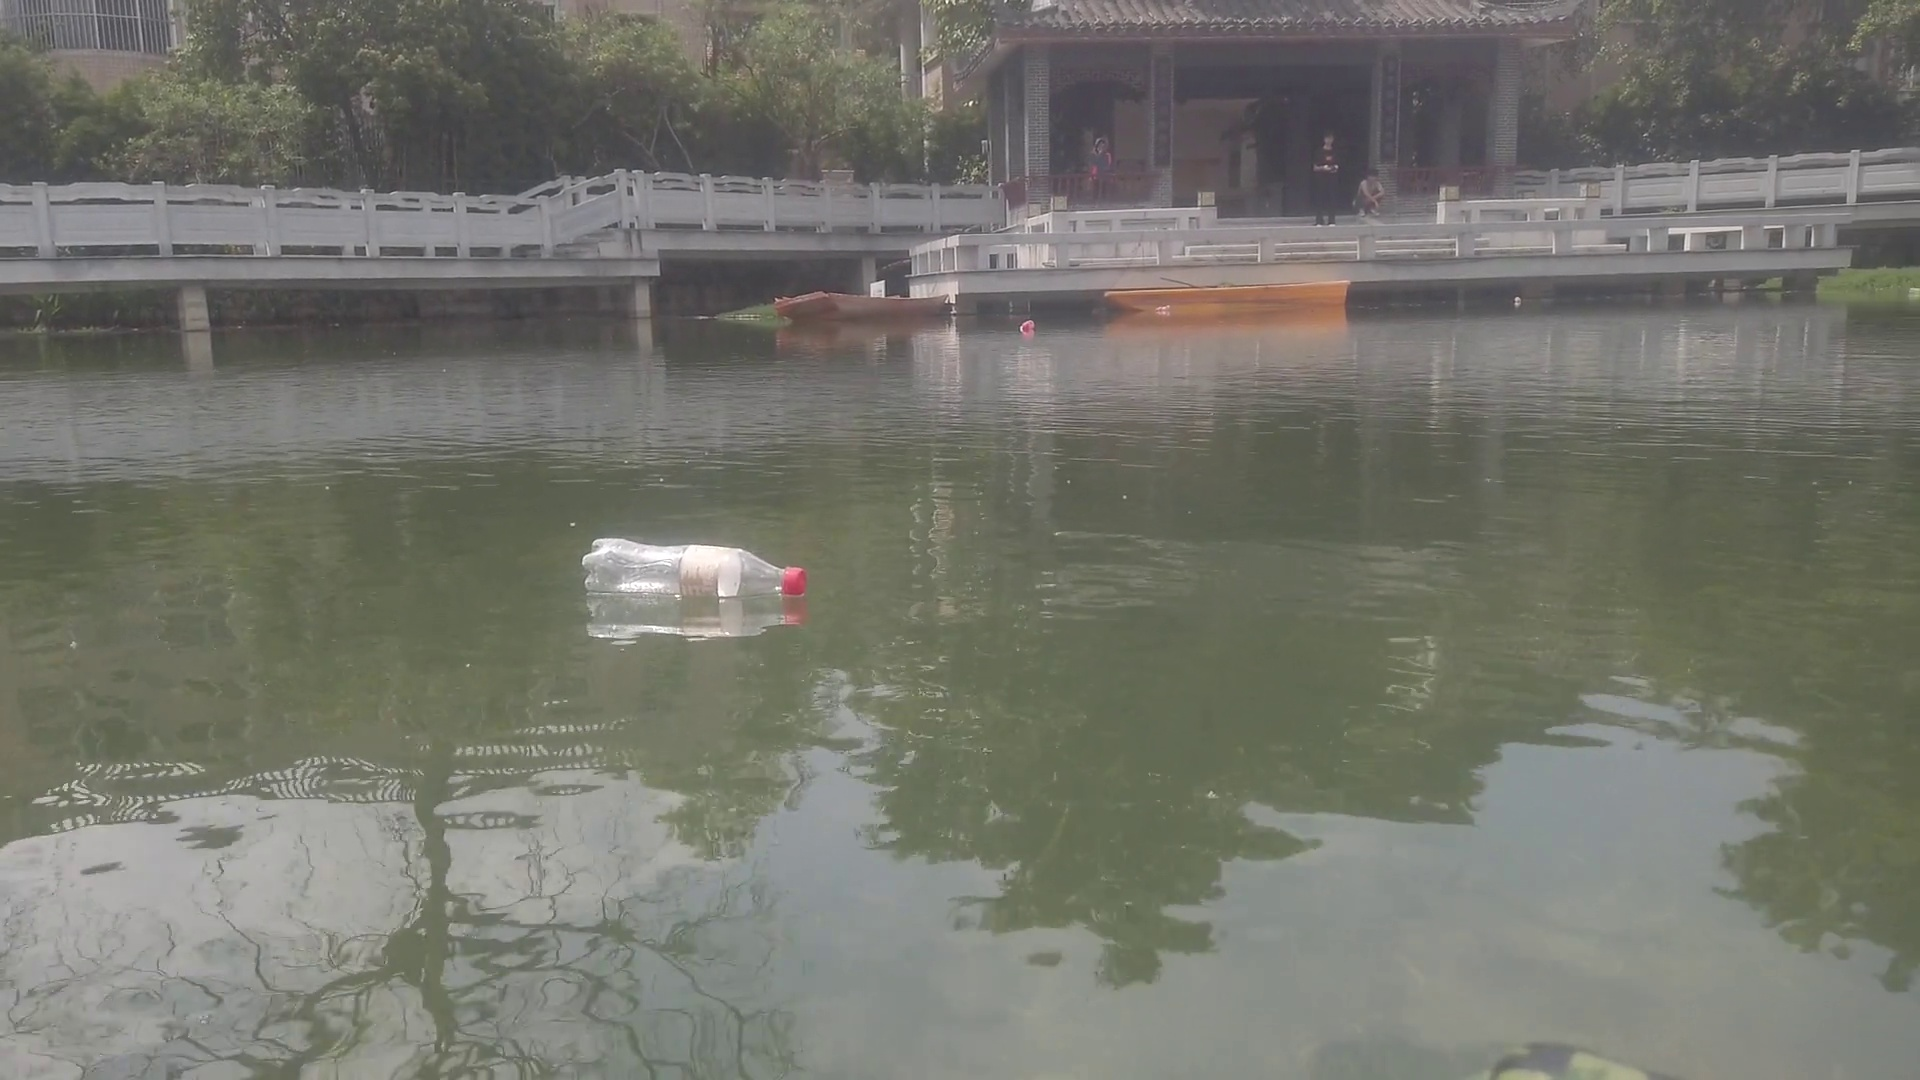bottle: (576, 534, 808, 603), (1018, 316, 1040, 332), (1513, 291, 1524, 306), (1155, 303, 1172, 311)
